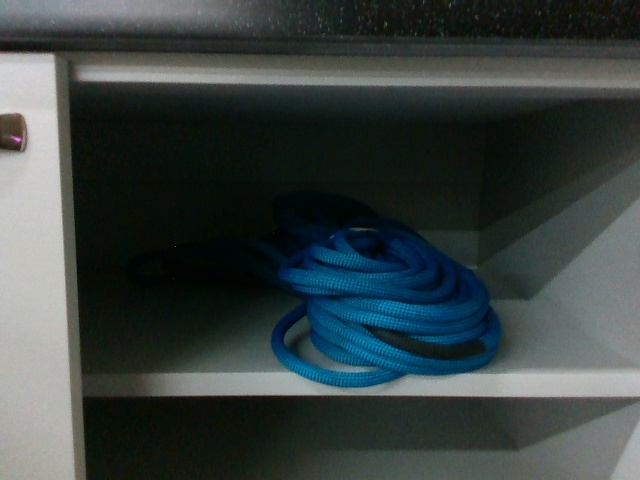rope: (290, 225, 500, 380)
